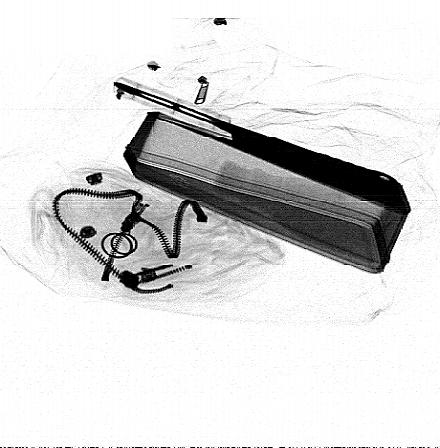Knife: (112, 81, 412, 216)
